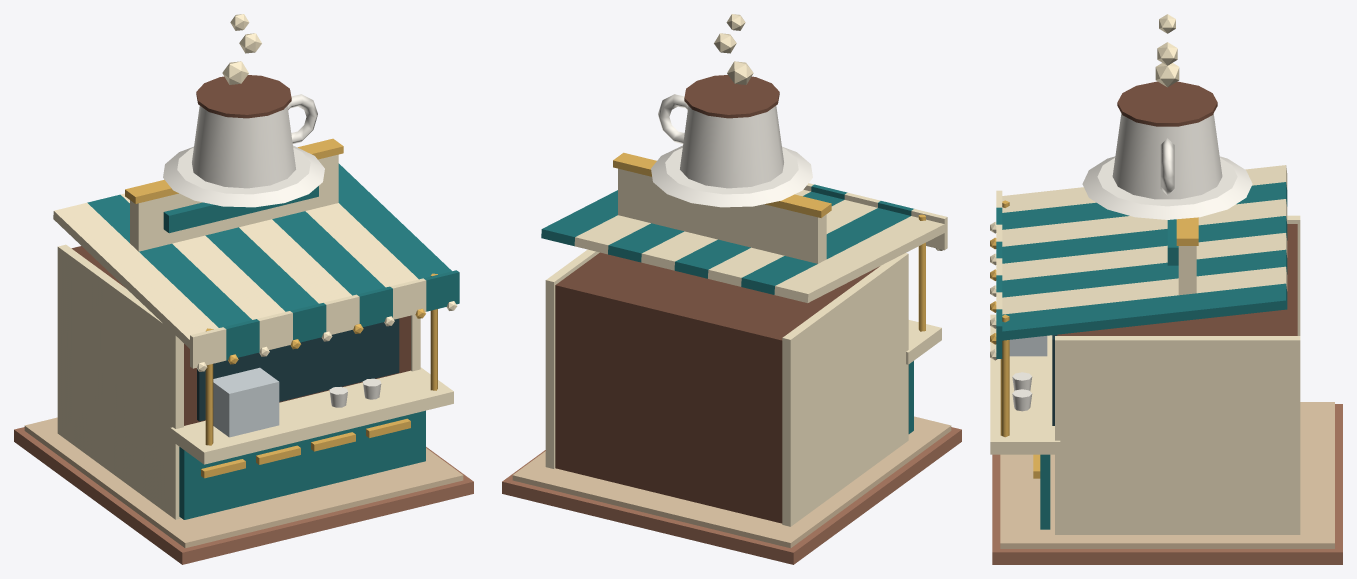
The model's file is stall_coffee.glb.
3 views of the same model, side by side, from view 1: azimuth 30°, elevation 25°; view 2: azimuth 150°, elevation 25°; view 3: azimuth 270°, elevation 25° (orthographic). The views are drawn at different scales.
Visible parts, largest first — view 1: stall_coffee; view 2: stall_coffee; view 3: stall_coffee.
Boxes of the visible parts, x1=… form: stall_coffee: x1=14, y1=14, x2=473, y2=564; stall_coffee: x1=502, y1=14, x2=961, y2=564; stall_coffee: x1=990, y1=14, x2=1342, y2=564.
Size of the model in its own units: 3.5 by 5.21 by 3.52.
